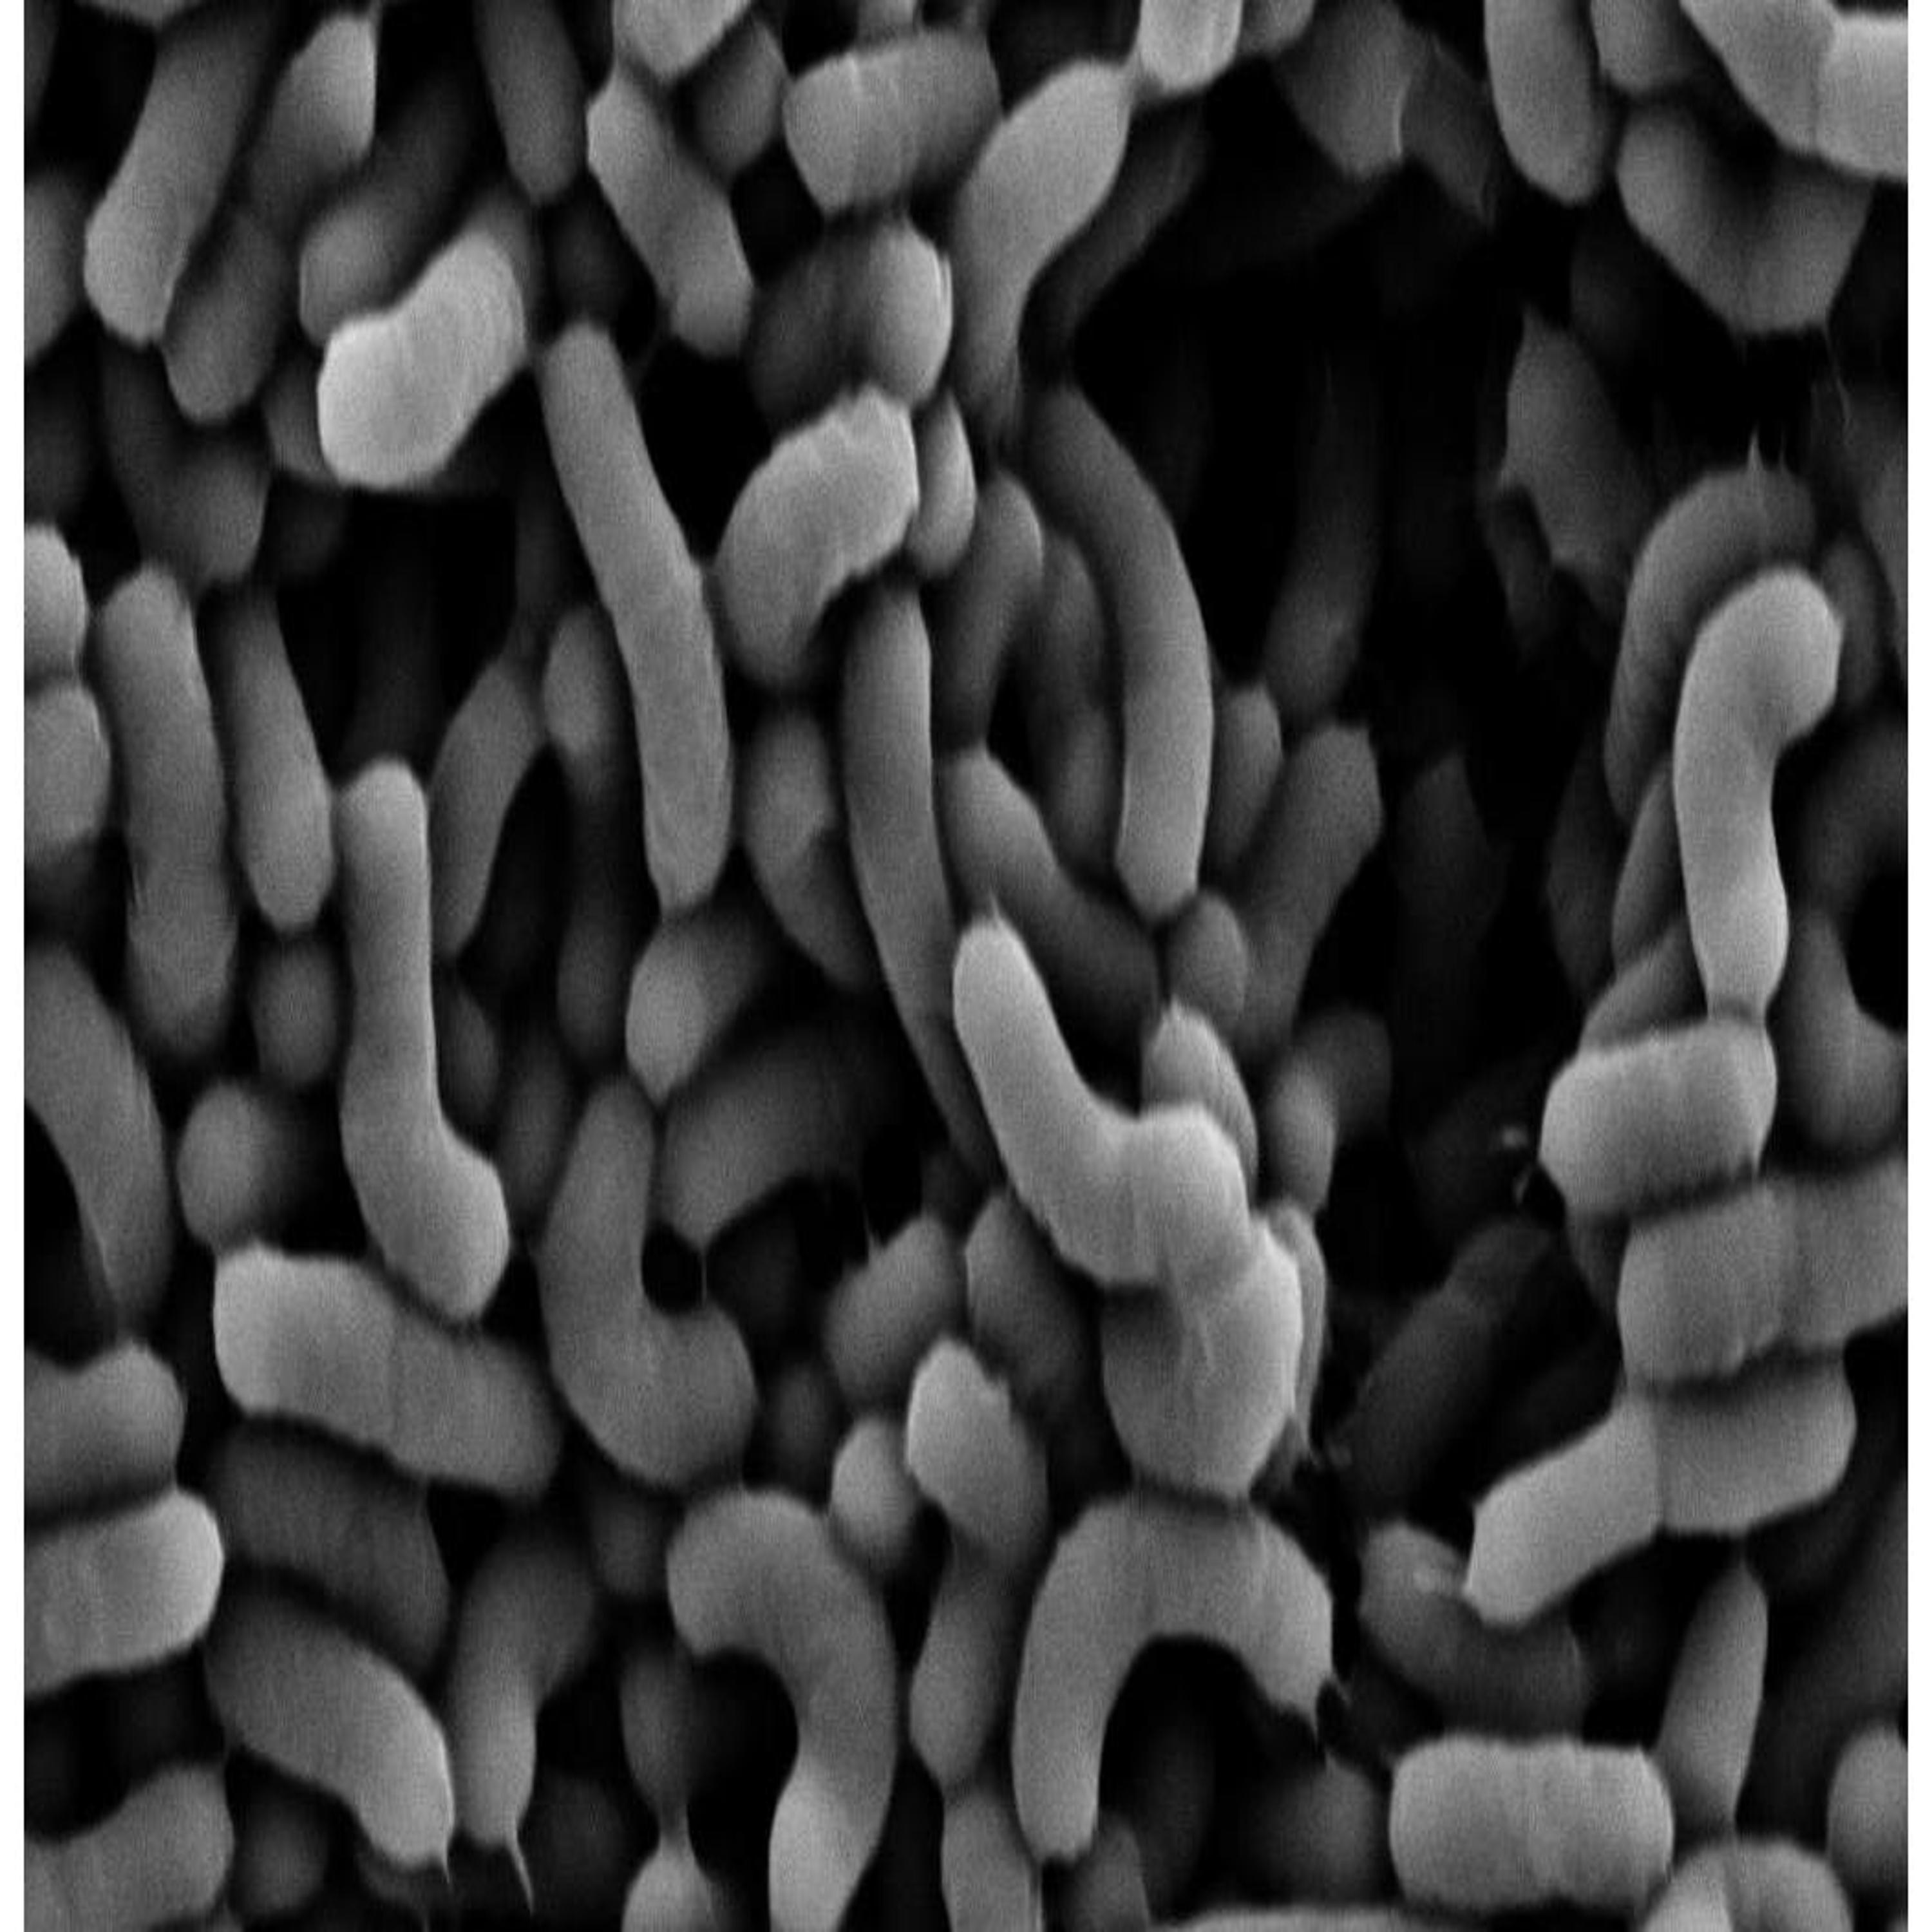Vibrio_cholerae5: (525, 322, 734, 925), (943, 888, 1256, 1288), (1668, 557, 1856, 1026)
